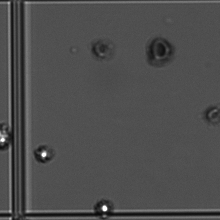Dead Cell: (144, 34, 177, 66), (93, 35, 116, 58), (199, 102, 220, 126)
Living Cell: (33, 144, 55, 164), (94, 198, 114, 214), (1, 126, 13, 152)
